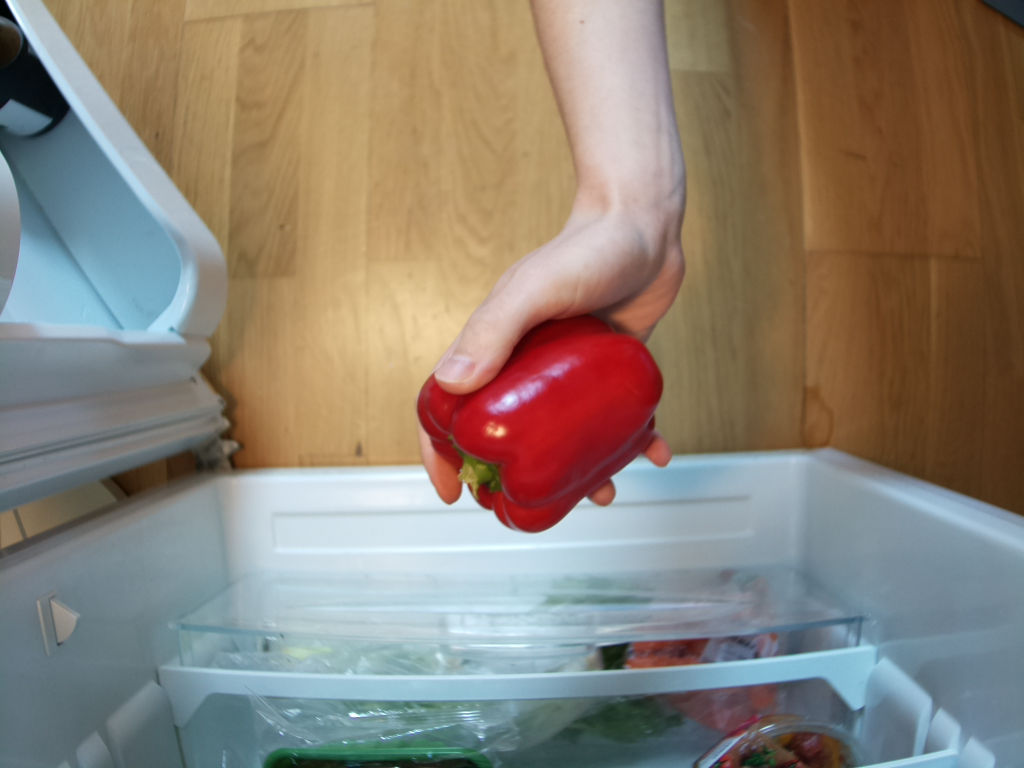pepper: (415, 314, 664, 533)
